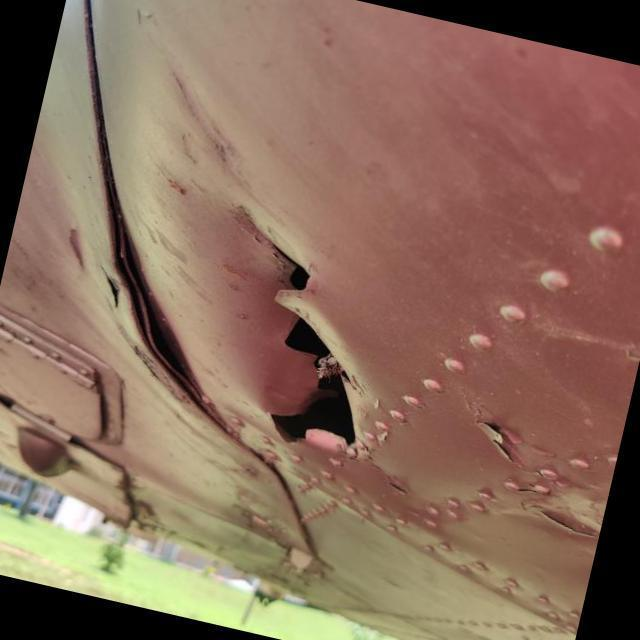dent: (79, 222, 211, 406)
